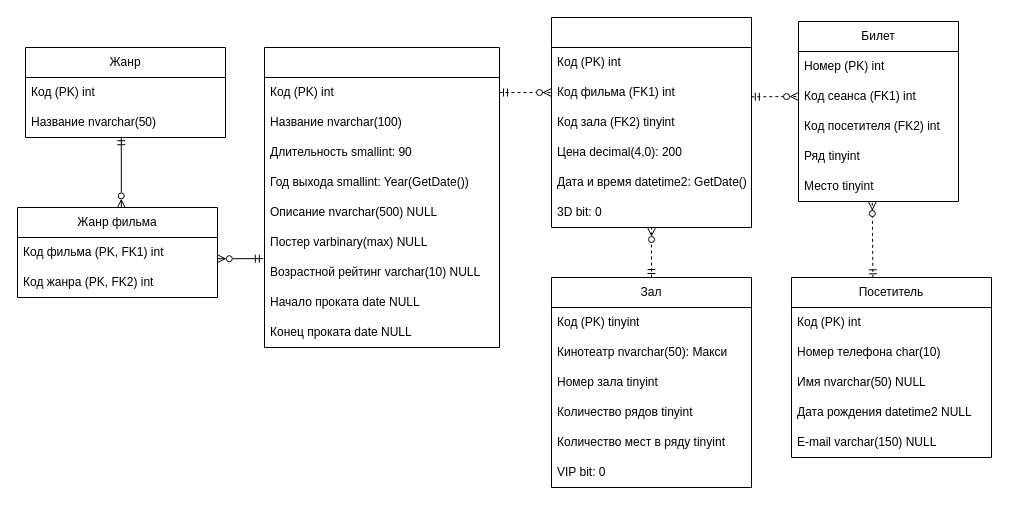
This 1009x505 diagram has some shape labels left out. The shapes that lost their labels are listed below. From the top down, each one's box as (x1, y1, x2, y2) in pixels, then its label:
(550, 16, 752, 228): Сеанс
(264, 46, 500, 348): Фильм
